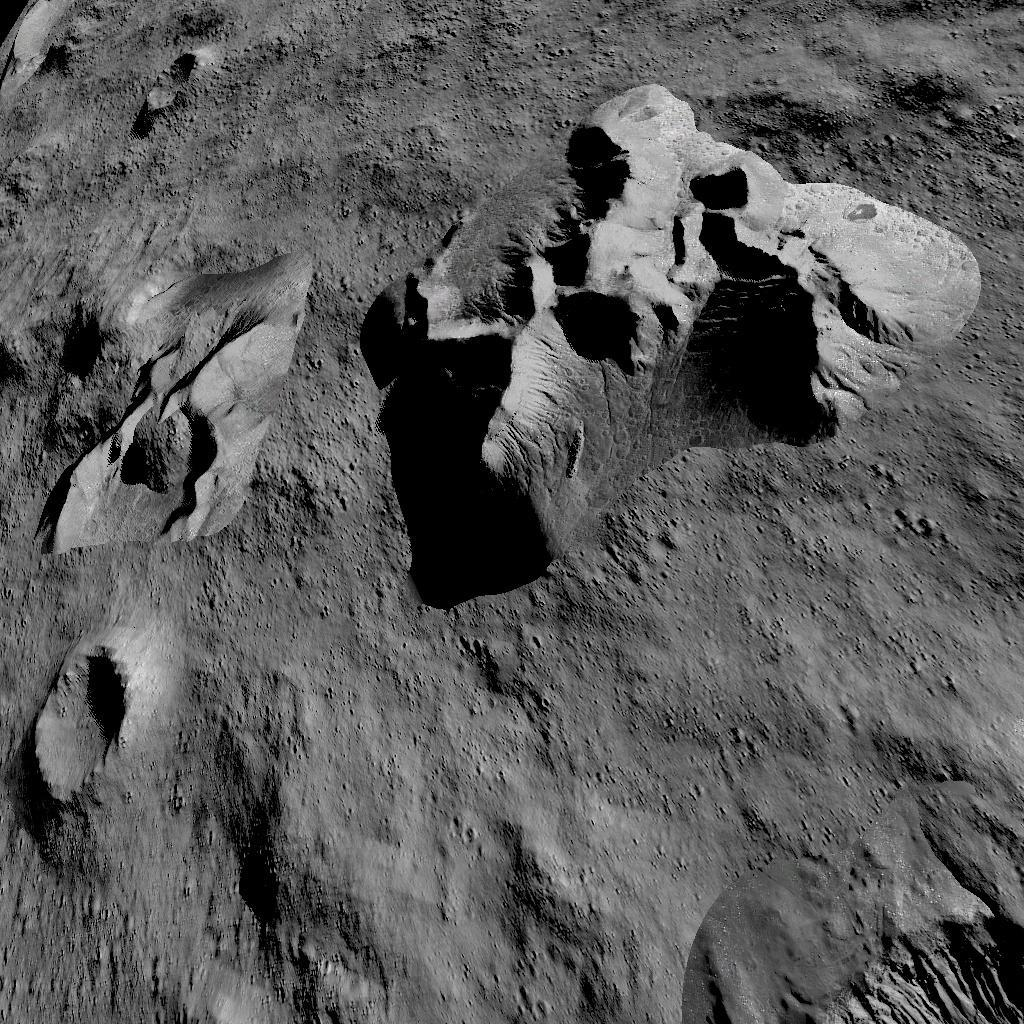Boulders: (341, 68, 993, 620)
Crater: (3, 289, 270, 551), (755, 892, 1024, 1024), (4, 628, 155, 848), (0, 0, 105, 104), (134, 44, 216, 125)
Plan surface: (213, 650, 721, 1024), (753, 644, 1024, 855), (17, 142, 326, 277)
